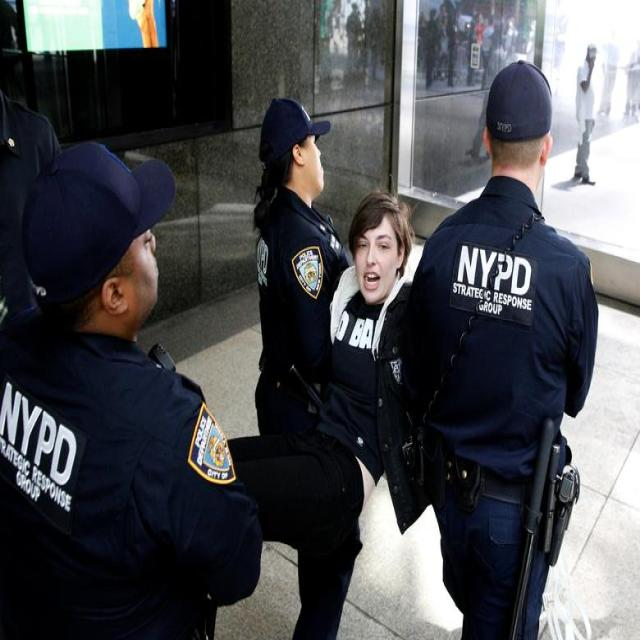police: (0, 108, 229, 640), (398, 40, 601, 630), (209, 71, 343, 525)
